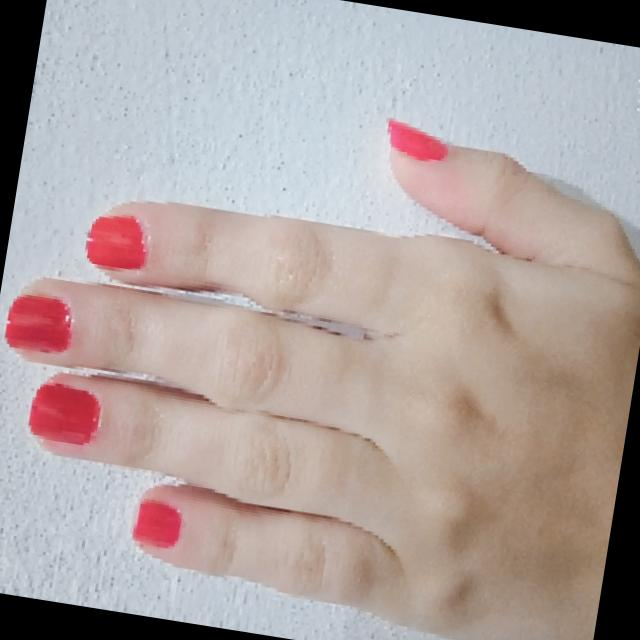Nail: (29, 383, 100, 444), (5, 294, 71, 351), (86, 216, 146, 268), (388, 119, 448, 160), (133, 501, 181, 547)
